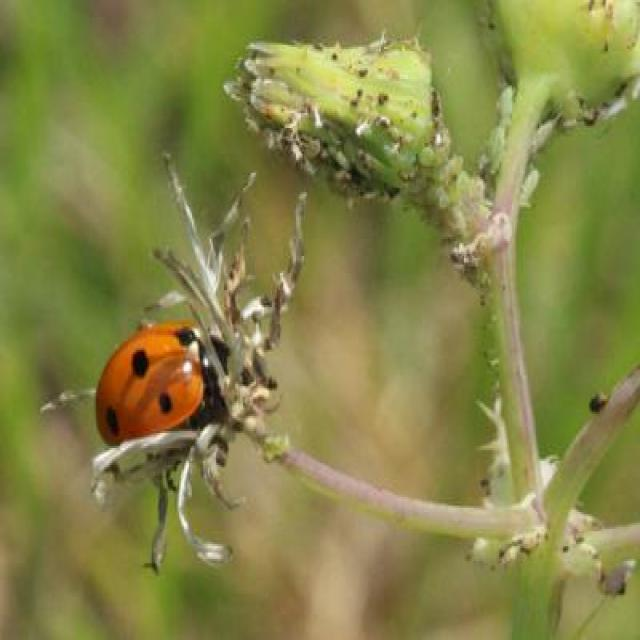body: (95, 322, 238, 446)
insect: (95, 322, 248, 451)
wings: (97, 326, 203, 444)
